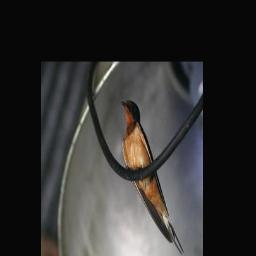Swallow: (118, 96, 187, 256)
